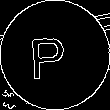P_N: (35, 29, 75, 81)
